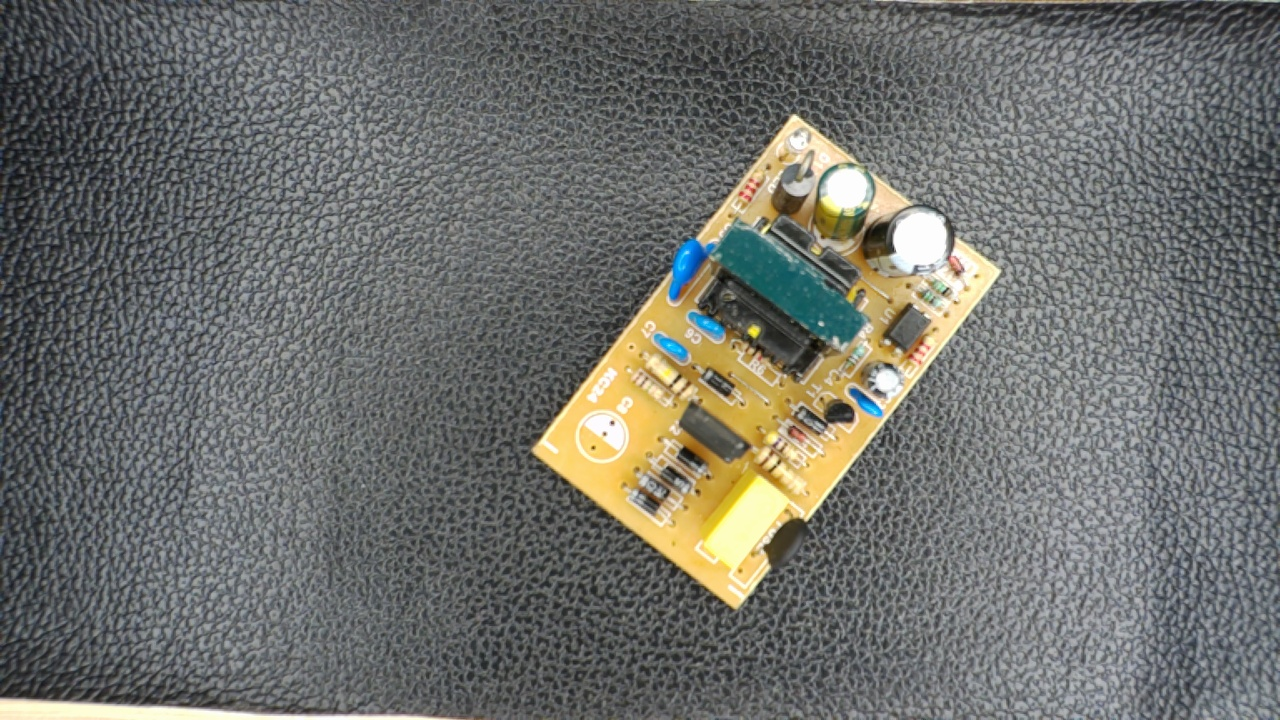fuse: (744, 503, 818, 578)
mov: (662, 234, 722, 303)
optocoupler: (875, 297, 935, 357)
